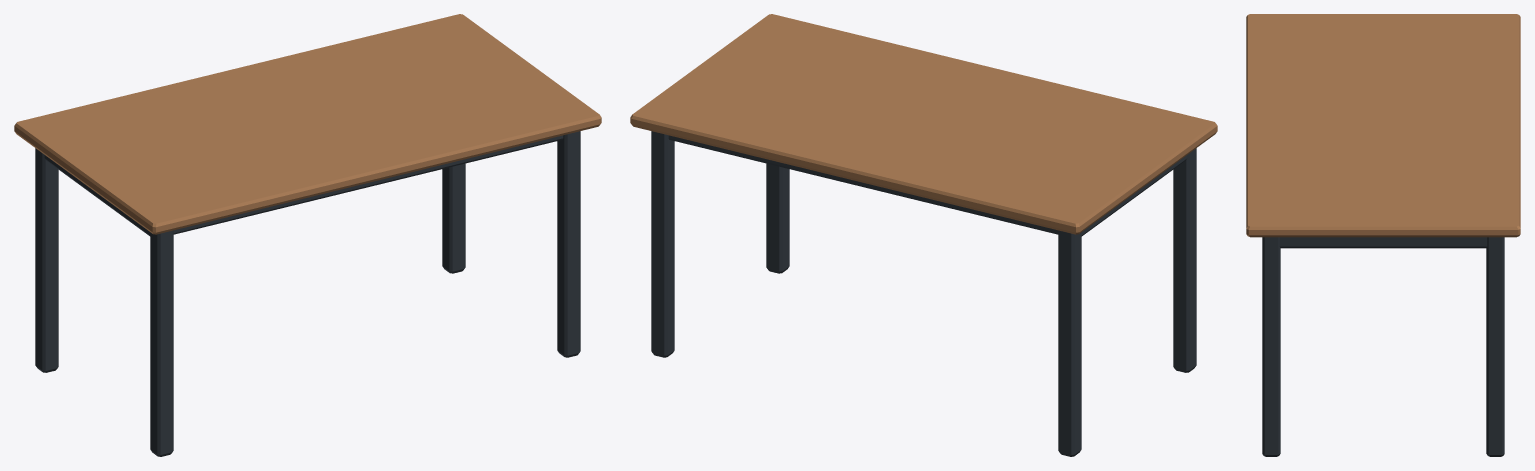
Rendered from mesa-apoio-lab.obj.
The picture shows the model from 3 angles, left to right: view 1: azimuth 30°, elevation 25°; view 2: azimuth 150°, elevation 25°; view 3: azimuth 270°, elevation 25°; orthographic projection. The views are drawn at different scales.
Parts seen in each view (by area): view 1: mesa-apoio-lab_carvalho, mesa-apoio-lab_metal_escuro; view 2: mesa-apoio-lab_carvalho, mesa-apoio-lab_metal_escuro; view 3: mesa-apoio-lab_carvalho, mesa-apoio-lab_metal_escuro.
Boxes of the visible parts, bbox=[...] form: mesa-apoio-lab_carvalho: bbox=[14, 14, 601, 234]; mesa-apoio-lab_metal_escuro: bbox=[35, 131, 580, 456]; mesa-apoio-lab_carvalho: bbox=[630, 14, 1217, 234]; mesa-apoio-lab_metal_escuro: bbox=[651, 131, 1196, 456]; mesa-apoio-lab_carvalho: bbox=[1246, 14, 1520, 237]; mesa-apoio-lab_metal_escuro: bbox=[1262, 237, 1504, 456].
Bounding box in the file's own units: 1.51 × 0.78 × 0.82.
